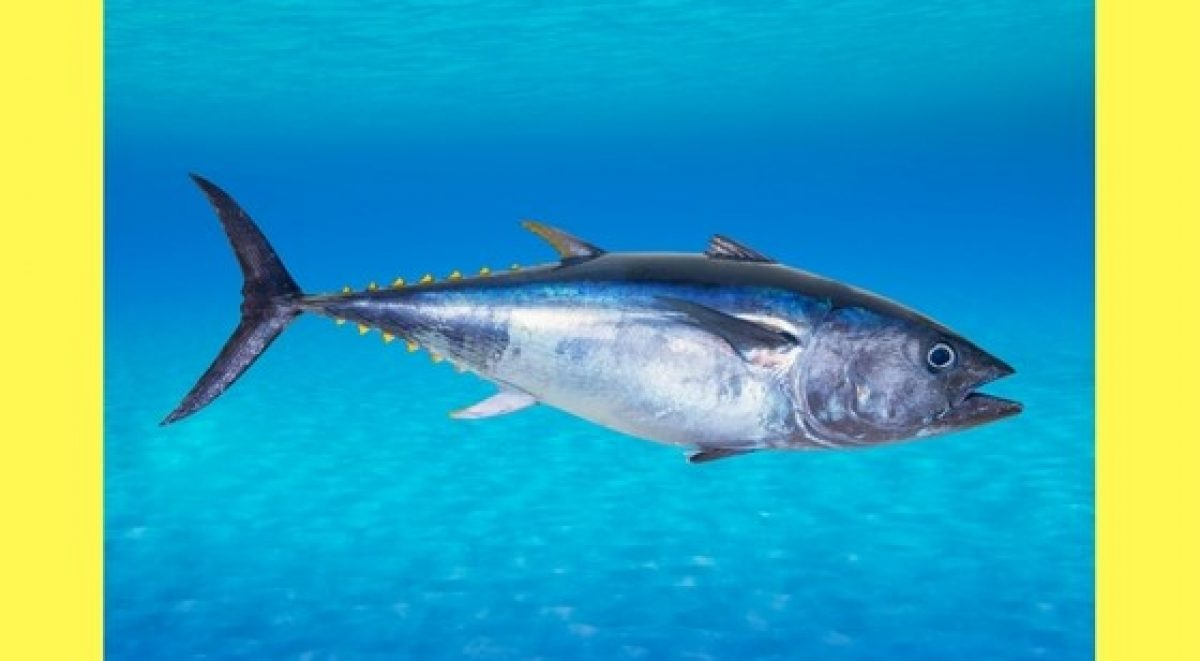Bluefina Tuna: (167, 153, 1022, 495)
